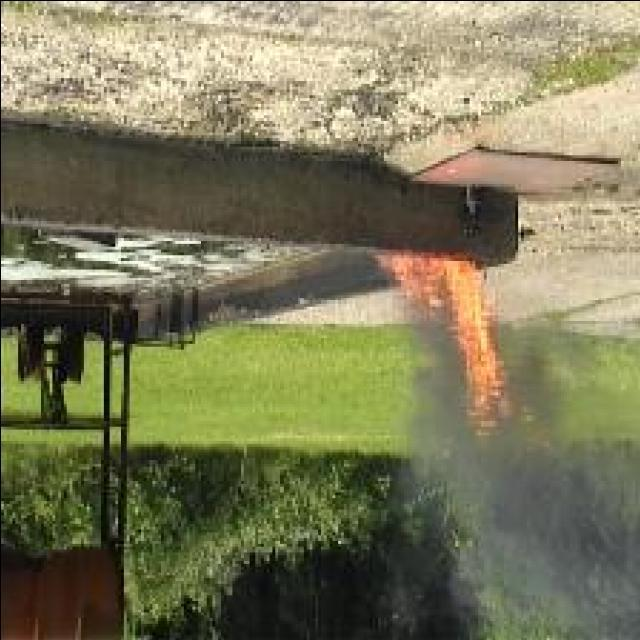Fire: (372, 253, 508, 441)
